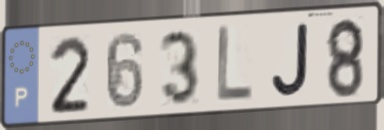2: (48, 33, 92, 116)
3: (158, 27, 203, 107)
6: (104, 30, 146, 112)
8: (323, 13, 366, 100)
J: (269, 20, 311, 99)
L: (214, 23, 255, 104)
